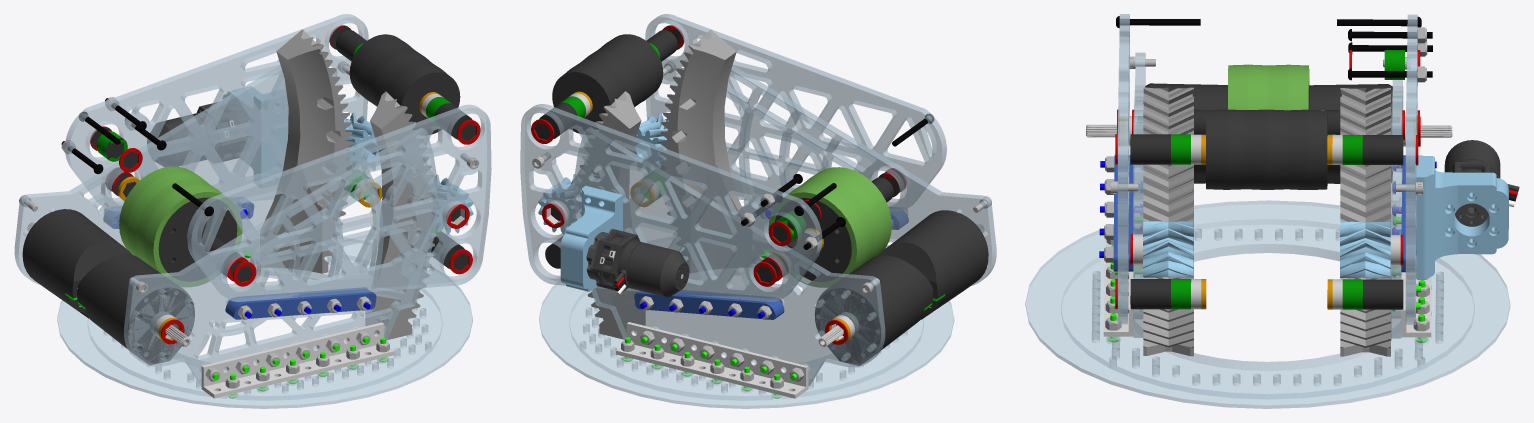
3 renders of one model, left to right at view 1: azimuth 30°, elevation 25°; view 2: azimuth 150°, elevation 25°; view 3: azimuth 270°, elevation 25°, orthographic. The views are drawn at different scales.
Visible parts, largest first — view 1: merged_43 NOSIMPLIFY, merged_45 NOSIMPLIFY, merged_2, merged_19, merged_42 NOSIMPLIFY, merged_44 NOSIMPLIFY, merged_21, merged_25, merged_0, merged_34, merged_5, merged_16 (+7 smaller); view 2: merged_43 NOSIMPLIFY, merged_44 NOSIMPLIFY, merged_2, merged_42 NOSIMPLIFY, merged_19, merged_45 NOSIMPLIFY, merged_34, merged_21, merged_25, merged_18, merged_0, merged_5 (+7 smaller); view 3: merged_42 NOSIMPLIFY, merged_19, merged_34, merged_2, merged_43 NOSIMPLIFY, merged_0, merged_21, merged_5, merged_14, merged_17, merged_13, merged_45 NOSIMPLIFY (+9 smaller).
Part boxes in pixels (left/top/right/bottom): merged_43 NOSIMPLIFY: left=65, top=14, right=491, bottom=301; merged_45 NOSIMPLIFY: left=124, top=128, right=437, bottom=385; merged_2: left=22, top=34, right=460, bottom=365; merged_19: left=260, top=29, right=436, bottom=339; merged_42 NOSIMPLIFY: left=57, top=236, right=472, bottom=408; merged_44 NOSIMPLIFY: left=14, top=65, right=288, bottom=284; merged_21: left=119, top=166, right=242, bottom=286; merged_25: left=201, top=240, right=394, bottom=398; merged_0: left=91, top=26, right=475, bottom=335; merged_34: left=222, top=86, right=473, bottom=234; merged_5: left=19, top=61, right=479, bottom=388; merged_16: left=103, top=201, right=376, bottom=319; merged_43 NOSIMPLIFY: left=520, top=14, right=946, bottom=301; merged_44 NOSIMPLIFY: left=574, top=127, right=885, bottom=385; merged_2: left=552, top=34, right=988, bottom=365; merged_42 NOSIMPLIFY: left=539, top=237, right=954, bottom=408; merged_19: left=579, top=29, right=744, bottom=339; merged_45 NOSIMPLIFY: left=726, top=65, right=996, bottom=285; merged_34: left=538, top=112, right=668, bottom=291; merged_21: left=768, top=167, right=891, bottom=287; merged_25: left=616, top=251, right=808, bottom=398; merged_18: left=592, top=229, right=689, bottom=297; merged_0: left=534, top=26, right=905, bottom=335; merged_5: left=532, top=61, right=991, bottom=388; merged_42 NOSIMPLIFY: left=1025, top=200, right=1510, bottom=408; merged_19: left=1143, top=87, right=1391, bottom=356; merged_34: left=1143, top=156, right=1508, bottom=278; merged_2: left=1145, top=78, right=1392, bottom=189; merged_43 NOSIMPLIFY: left=1117, top=14, right=1417, bottom=324; merged_0: left=1130, top=109, right=1403, bottom=309; merged_21: left=1228, top=64, right=1309, bottom=110; merged_5: left=1104, top=27, right=1429, bottom=331; merged_14: left=1171, top=50, right=1404, bottom=309; merged_17: left=1116, top=16, right=1432, bottom=80; merged_13: left=1129, top=110, right=1406, bottom=309; merged_45 NOSIMPLIFY: left=1133, top=52, right=1145, bottom=337.
Size of the model in its own units: 0.3164 by 0.193 by 0.3106.
